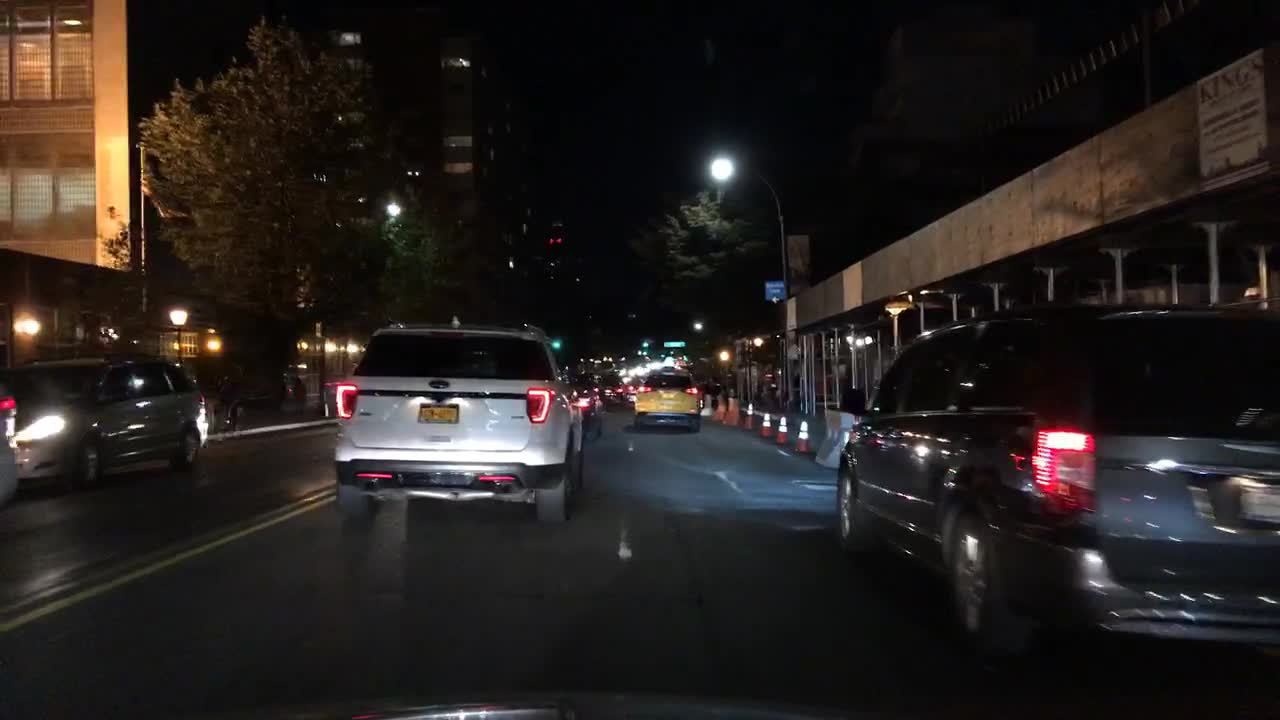car: (835, 293, 1277, 657), (327, 318, 587, 522), (0, 352, 209, 487), (630, 367, 704, 430), (0, 360, 24, 516), (567, 378, 603, 421), (593, 369, 624, 402), (621, 367, 642, 405), (661, 338, 687, 347)
person: (289, 375, 306, 413)
traffic light: (549, 226, 566, 249)
traffic sign: (762, 280, 783, 304)
